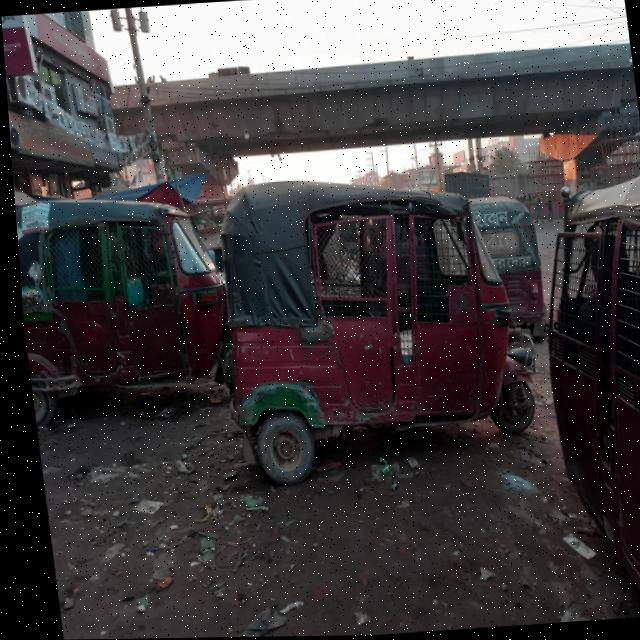cng: (178, 138, 546, 474), (9, 150, 252, 436), (521, 155, 640, 623)
